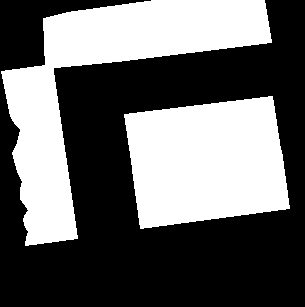parkingspot: (43, 0, 271, 68), (1, 64, 77, 245), (132, 150, 289, 228), (124, 96, 281, 174)
